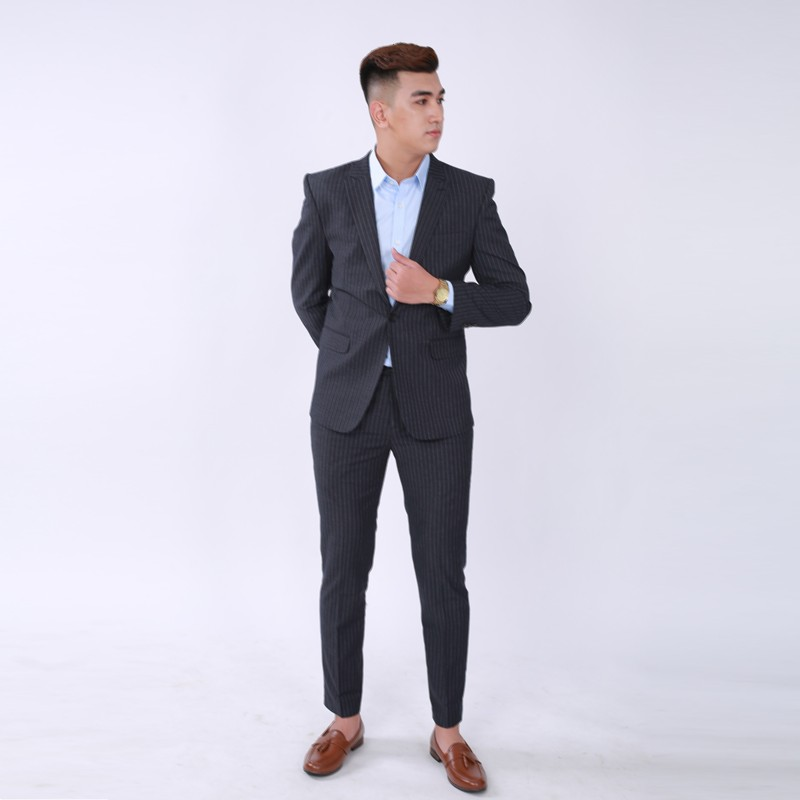person: (287, 44, 533, 795)
